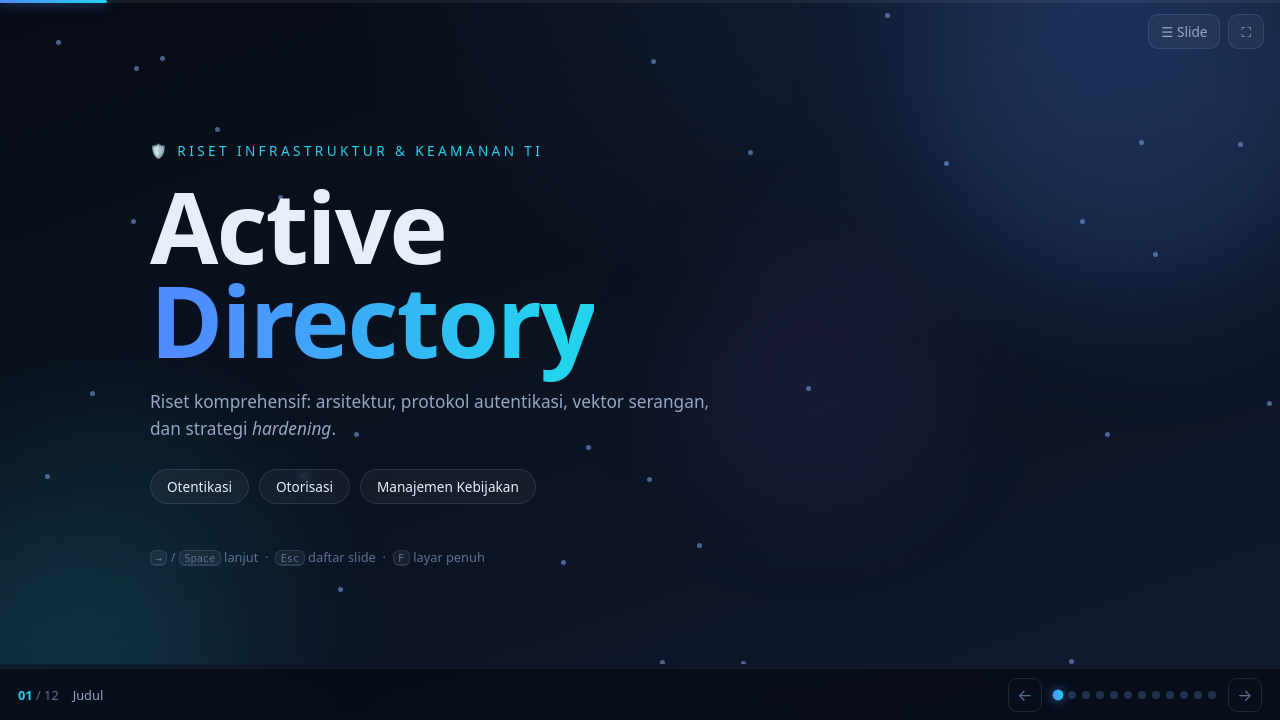
Test: overlay daftar slide › Esc membuka overlay, klik item pindah slide lalu menutupnya
The image size is (1280, 720).
Press Escape
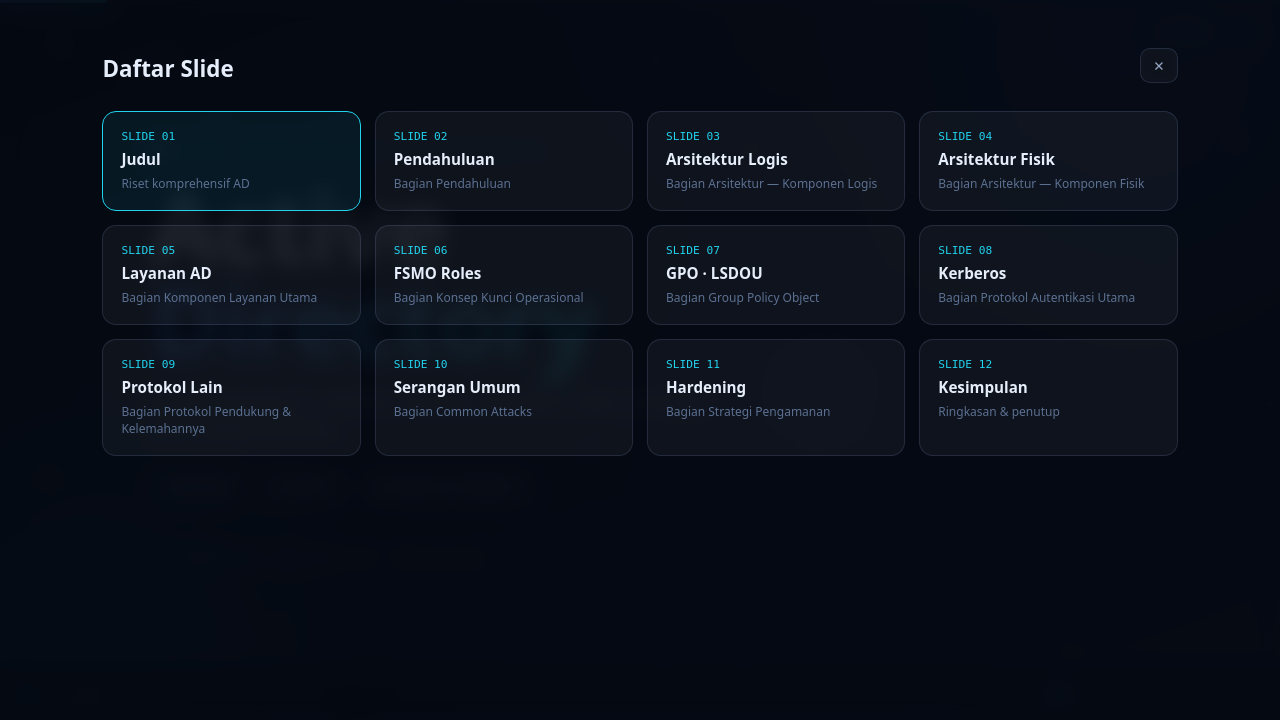
Result: the dialog "Daftar Slide" is shown
Click the button "SLIDE 08 Kerberos Bagian Protokol Autentikasi Utama": (1048, 275) [919,225,1178,325]
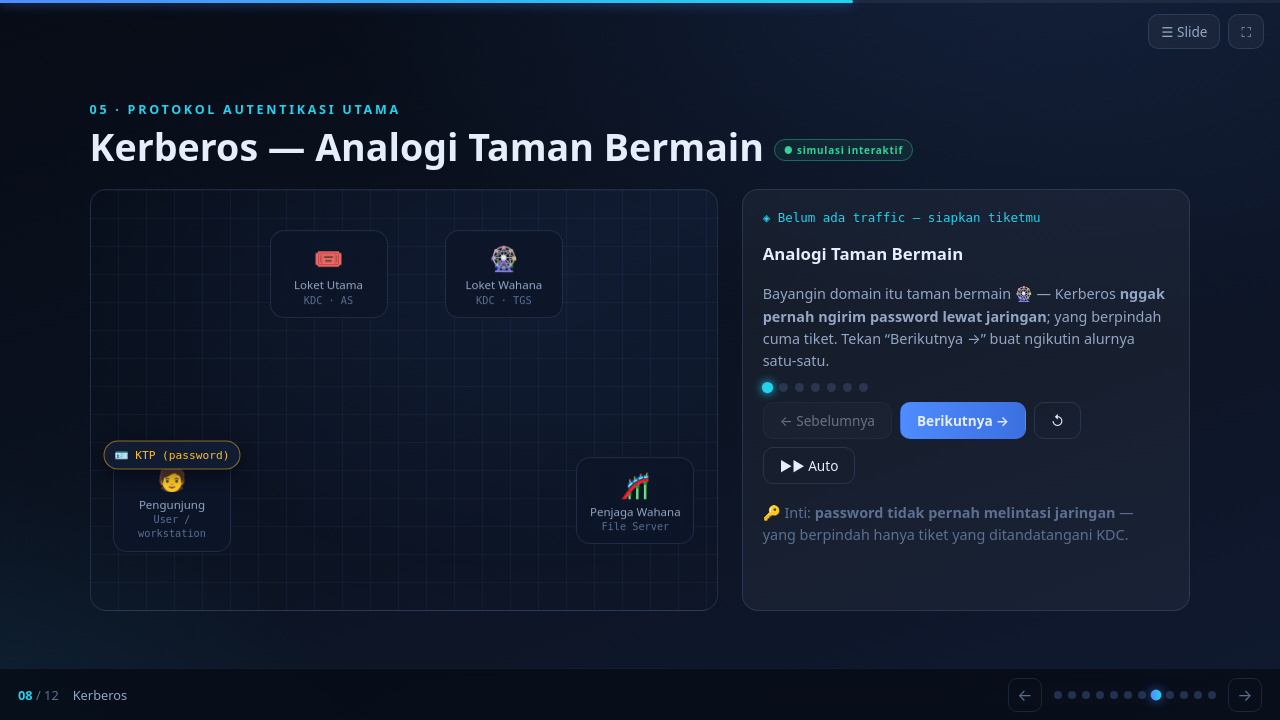
Result: the dialog "daftar slide" is gone
